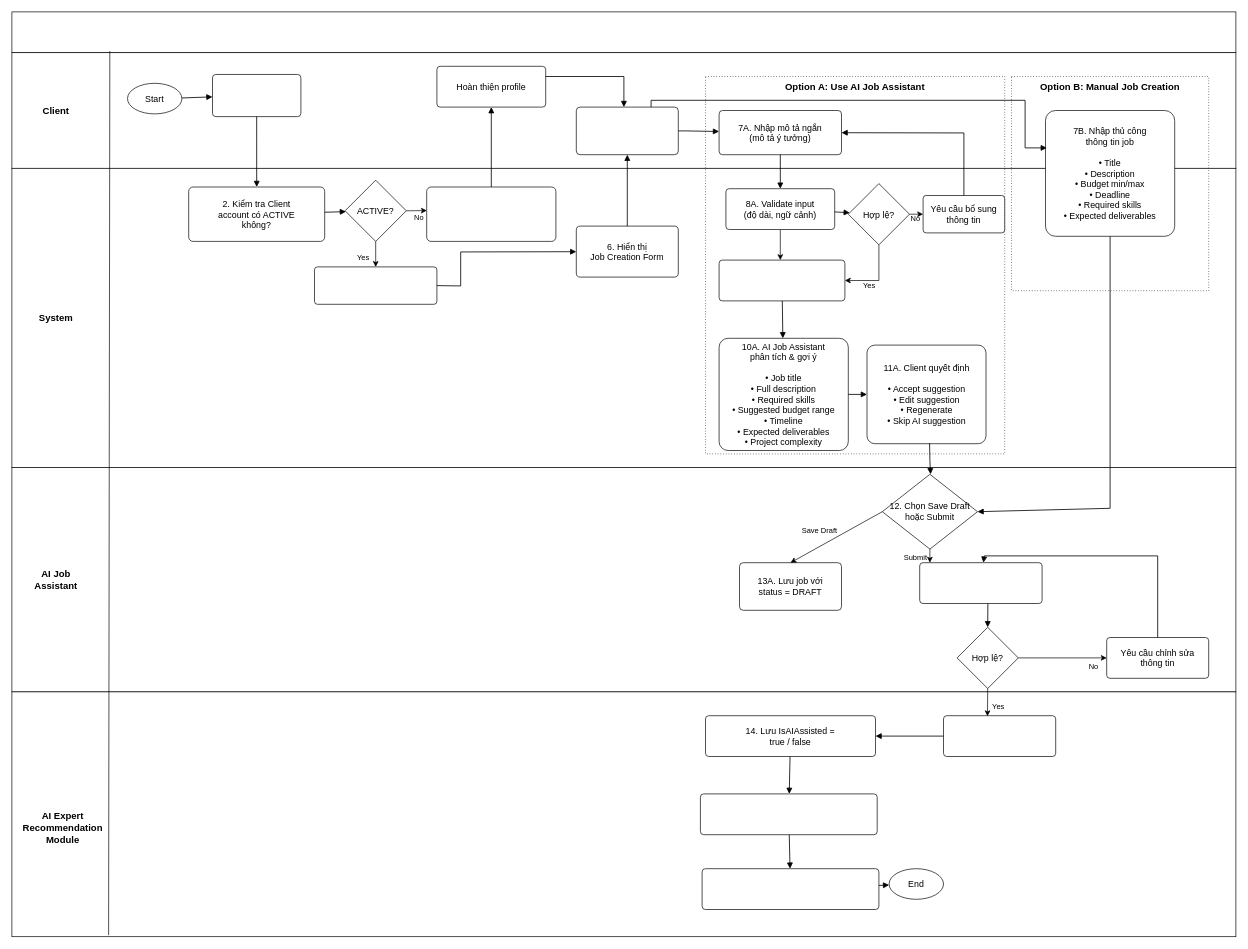
The diagram is 1248 pixels wide and 949 high, and some of its shapes have lost their labels. The centre of each missing label's shape, as x and y in pixels:
"1. Login vào hệ thống" goes at (x=256, y=95).
"13B. Validate toàn bộ job" goes at (x=980, y=583).
"13C. Lưu job với status = OPEN" goes at (x=999, y=735).
"15. Chuyển required skills của job sang module matching" goes at (x=788, y=814).
"16. Nhận job + skills để thực hiện matching Expert" goes at (x=790, y=889).
"3. Yêu cầu hoàn thiện profile" goes at (x=491, y=213).
"4. Hiển thị Dashboard" goes at (x=375, y=285).
"7. Chọn cách tạo job" goes at (x=627, y=130).
"9A. Gửi input sang AI Job Assistant" goes at (x=781, y=280).
"Flow 2: Client Creates Main Request / Job with AI Job Assistant" goes at (x=623, y=32).
